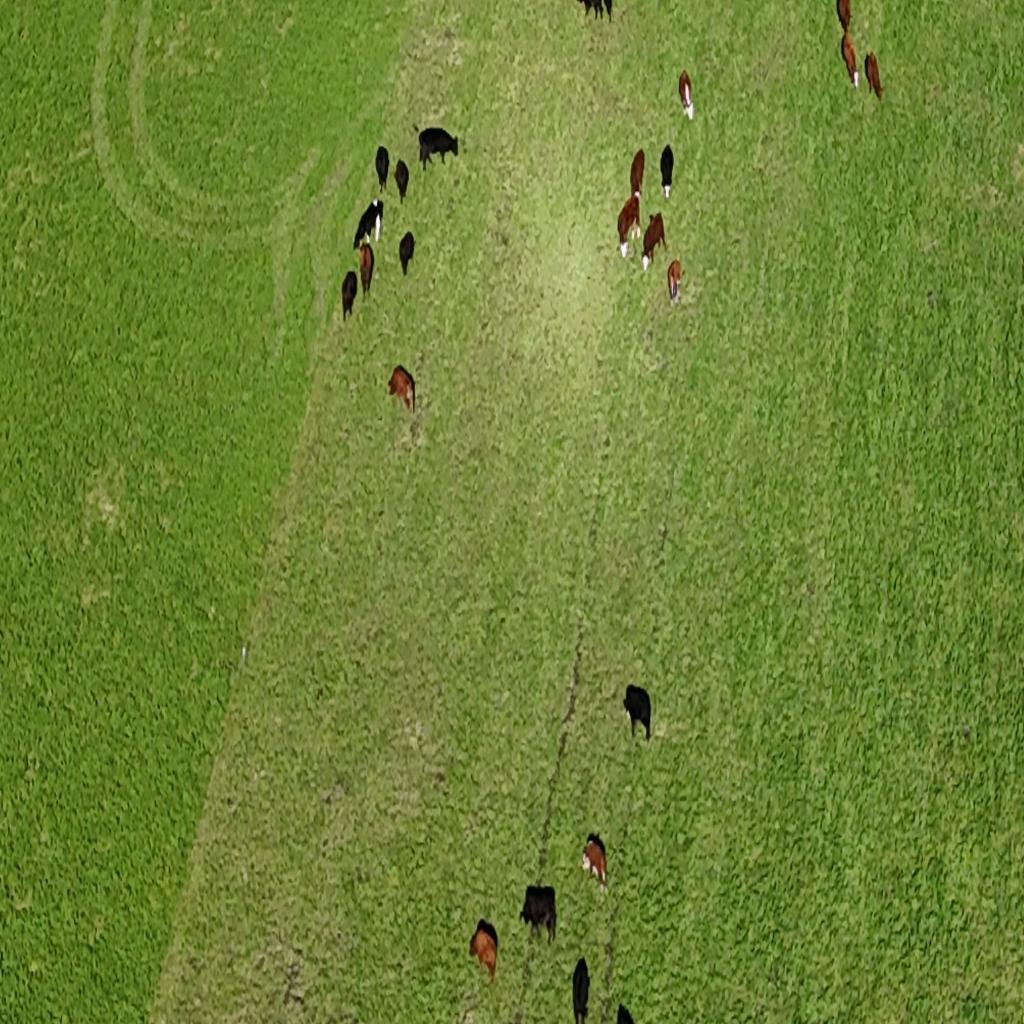cow: (520, 886, 558, 940), (468, 917, 498, 985), (580, 833, 610, 899), (417, 126, 459, 169), (623, 684, 651, 744), (617, 194, 641, 259), (353, 198, 383, 250), (387, 362, 415, 414), (570, 956, 590, 1024), (643, 213, 664, 273), (840, 30, 858, 89), (358, 241, 374, 300), (864, 51, 882, 100), (678, 70, 694, 120), (630, 146, 646, 196), (660, 142, 674, 199), (341, 270, 356, 322), (400, 229, 416, 273), (395, 158, 409, 205), (375, 145, 389, 192), (668, 261, 684, 302)
